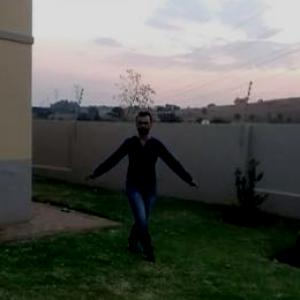land: (90, 97, 202, 264)
